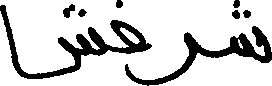ر: (159, 30, 197, 85)
ش: (0, 1, 104, 79), (229, 0, 271, 63)
ف: (109, 0, 145, 56)
